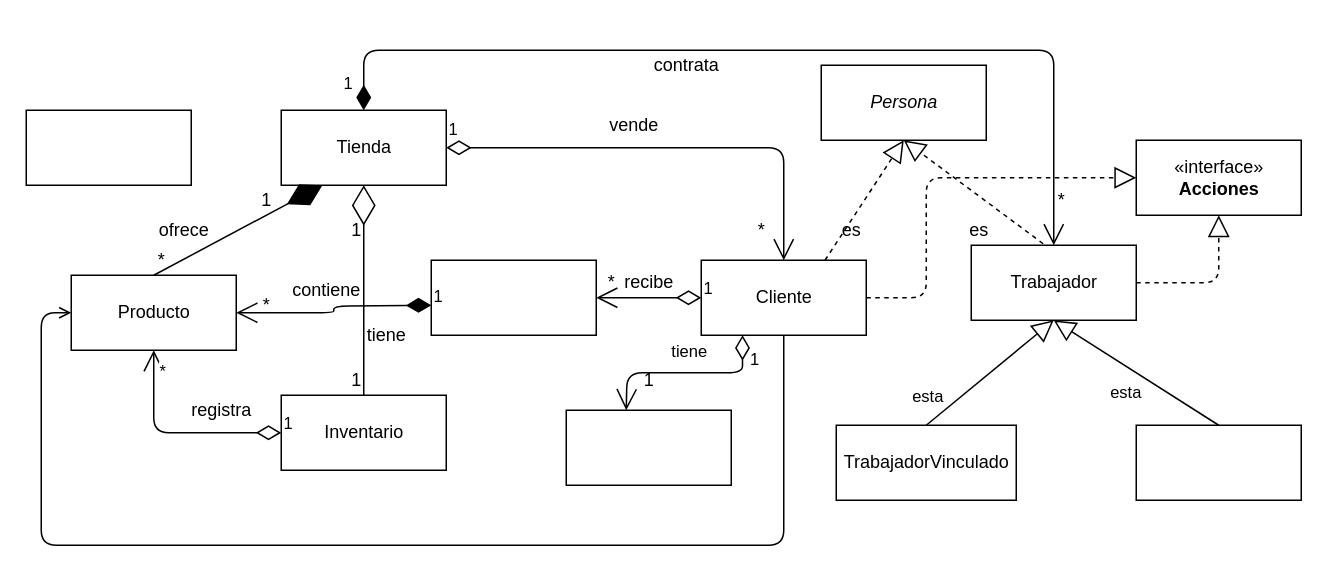
Some shapes in this 1328 by 584 pixel diagram are drawn without their labels. The centre of each missing label's shape, as x and y in pixels:
"Cuenta" belongs at (x=648, y=447).
"Empresa(main)" belongs at (x=108, y=147).
"Factura" belongs at (x=513, y=297).
"TrabajadorServicios" belongs at (x=1218, y=462).
